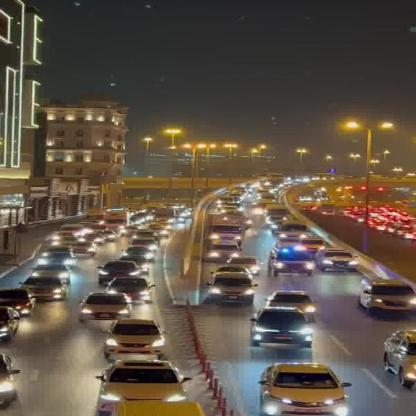priority: (268, 244, 315, 274)
